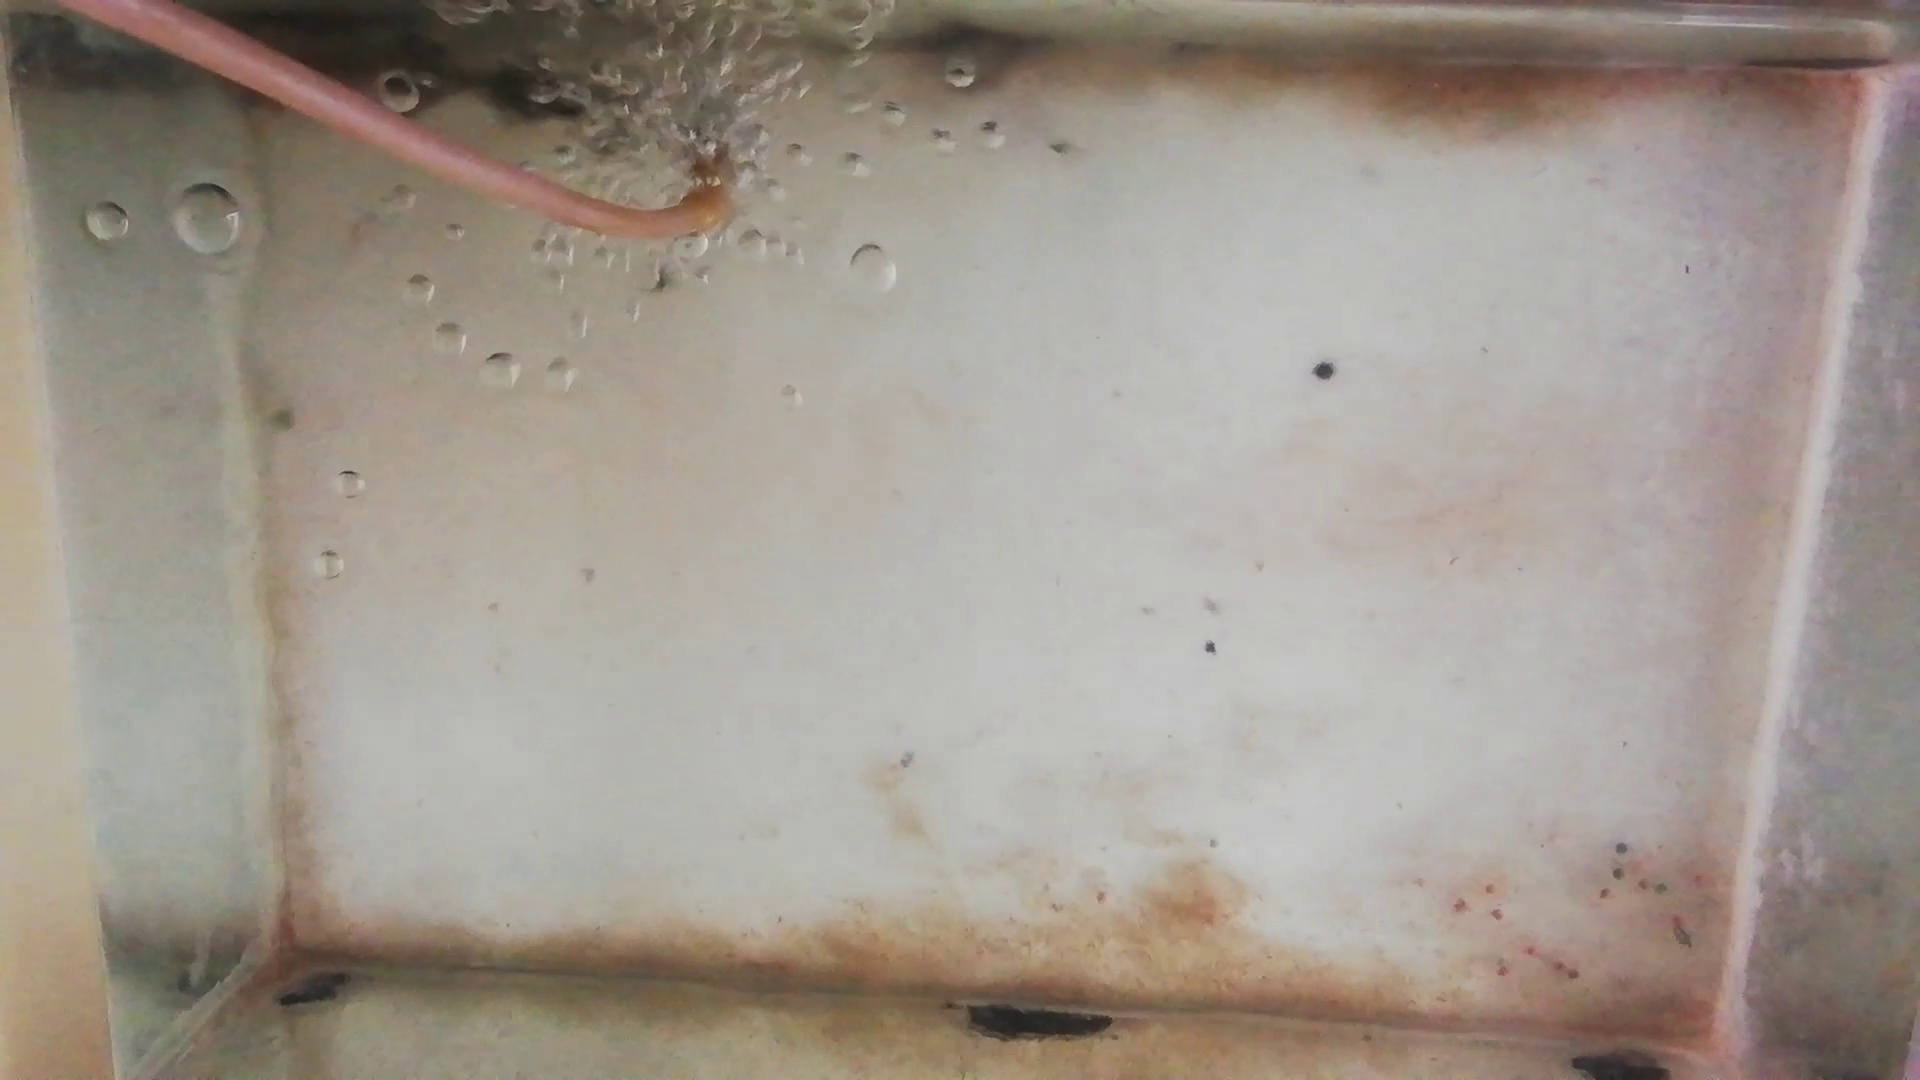fish: (462, 71, 626, 127)
